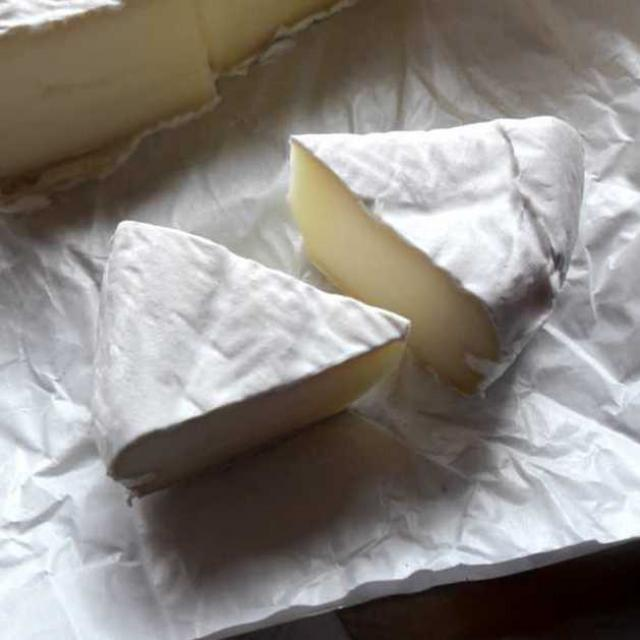brie: (290, 119, 583, 397)
